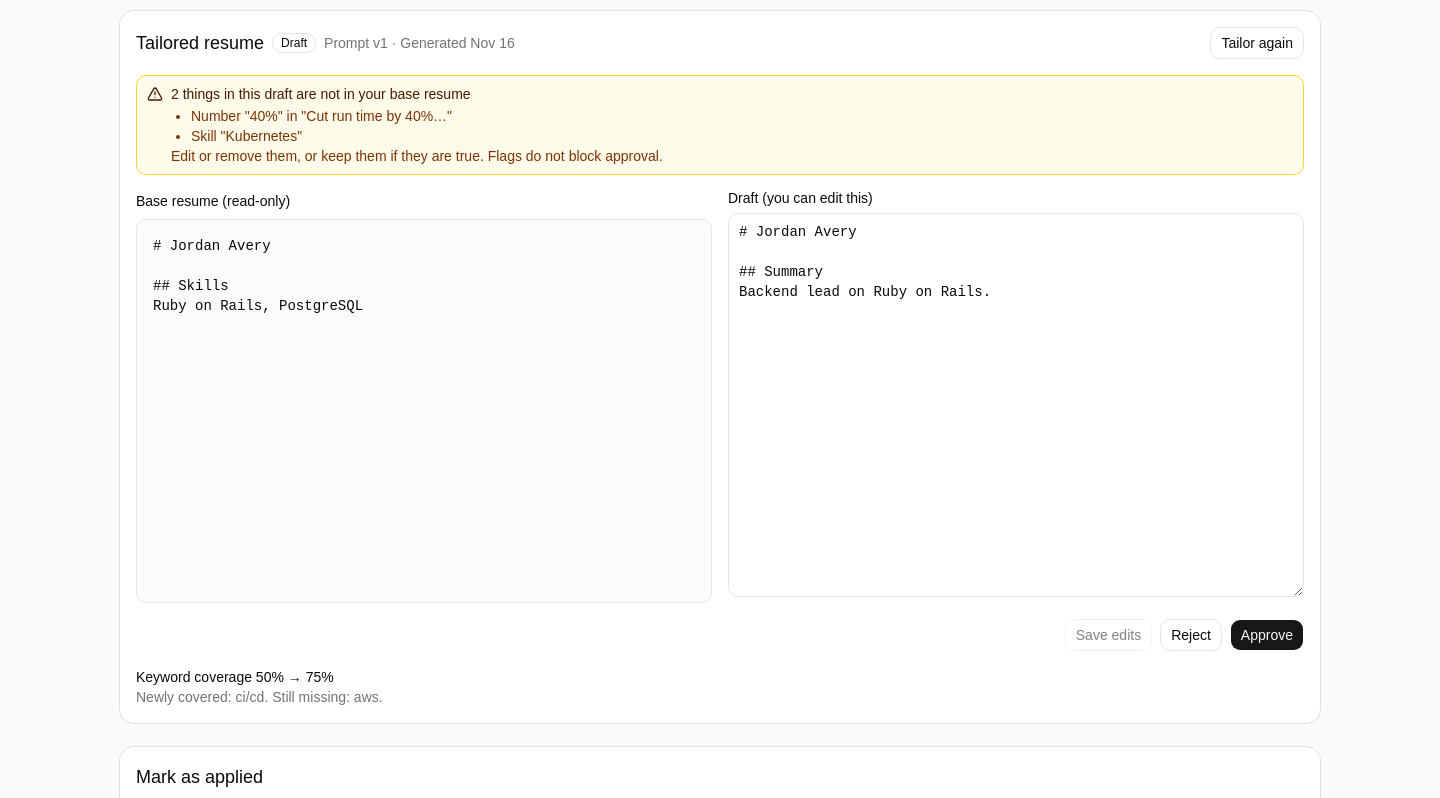
Scenario: saving edits › disables the buttons while the save is running
Later steps or results of the test are not shown.
(page scrolled)
Replace the text in the text box labelled "Draft (you can edit this)" with "Edited": (1016, 405) x1=728 y1=213 x2=1304 y2=597
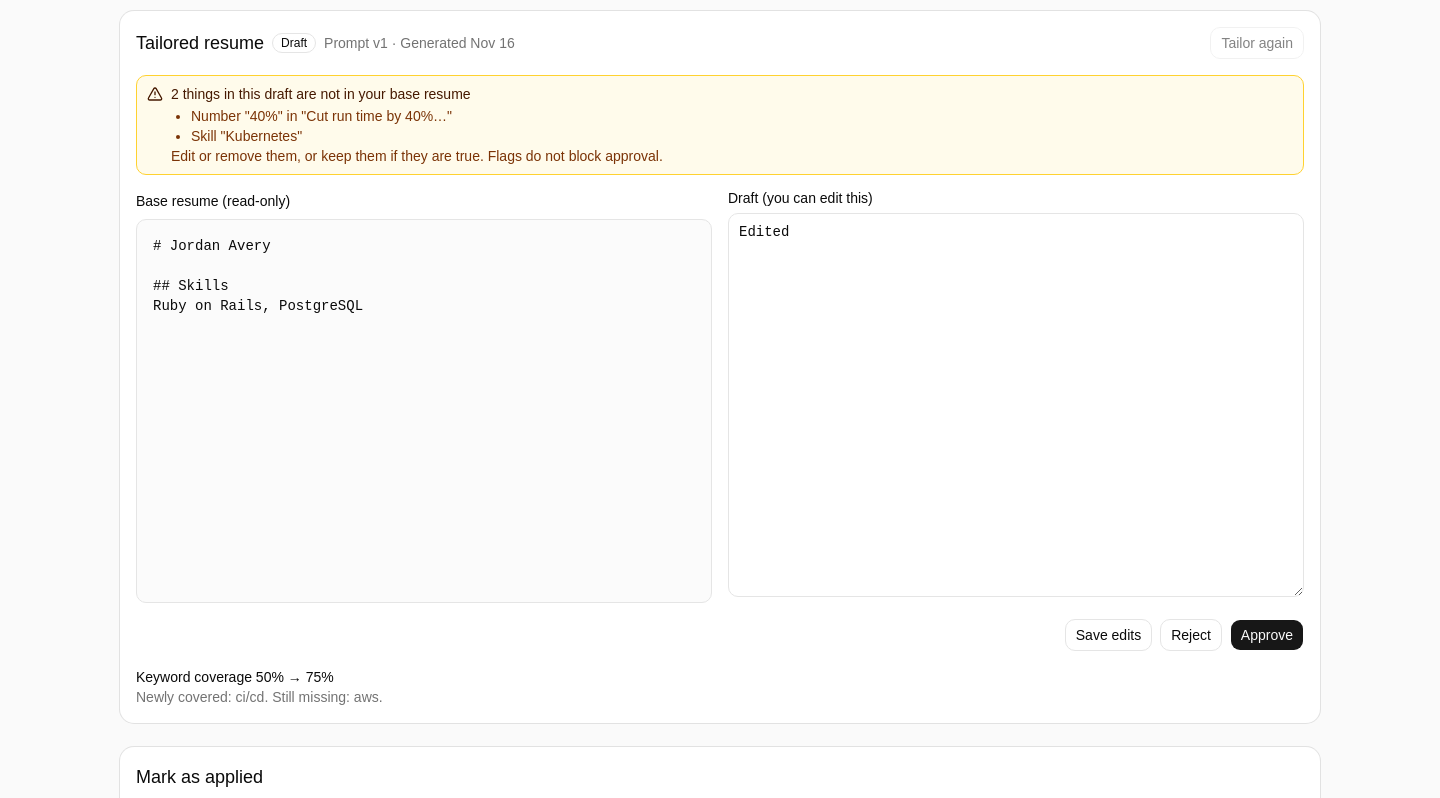
Click the button "Save edits": (1108, 635) x1=1065 y1=619 x2=1152 y2=651
(page scrolled)
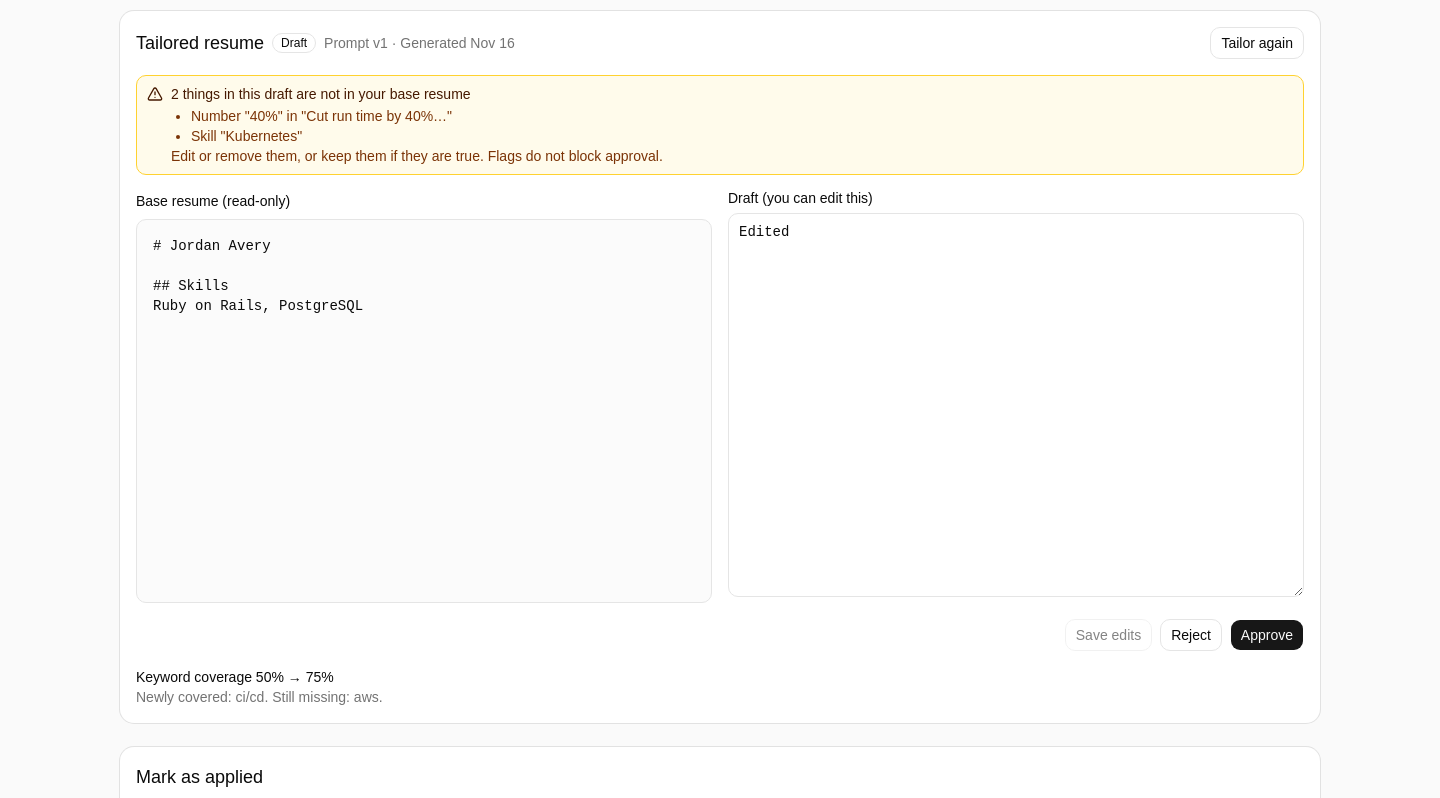
Expected: the button "Approve" is enabled, x1=1230 y1=619 x2=1304 y2=651
Expected: the button "Save edits" is disabled, x1=1065 y1=619 x2=1152 y2=651
